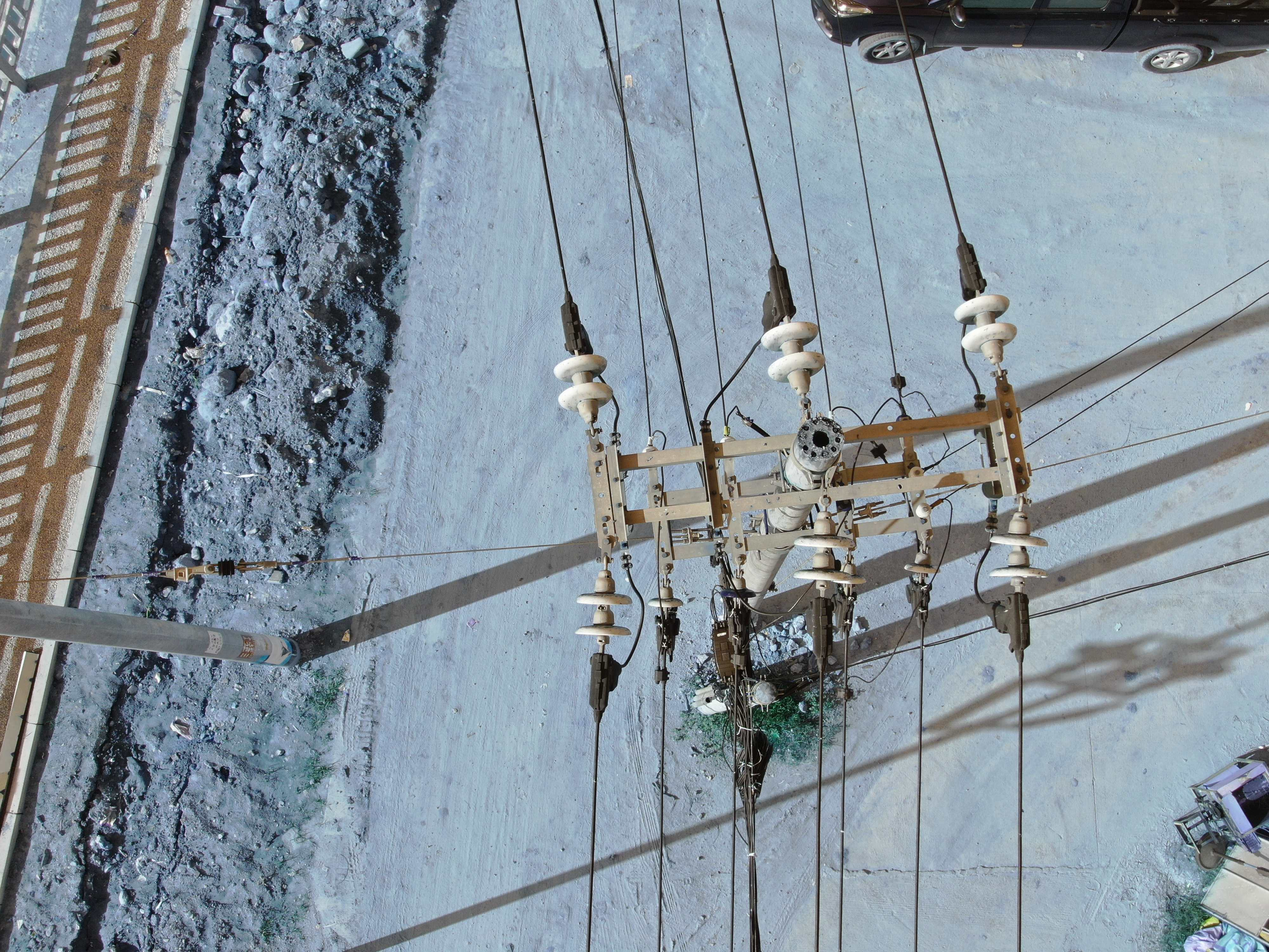severe_soiling_no_discharge_whole: (952, 290, 1020, 363), (792, 511, 857, 584), (760, 320, 825, 392), (553, 352, 615, 423), (572, 571, 635, 640), (988, 512, 1051, 578), (904, 549, 943, 574), (647, 589, 685, 610), (834, 564, 868, 587)
